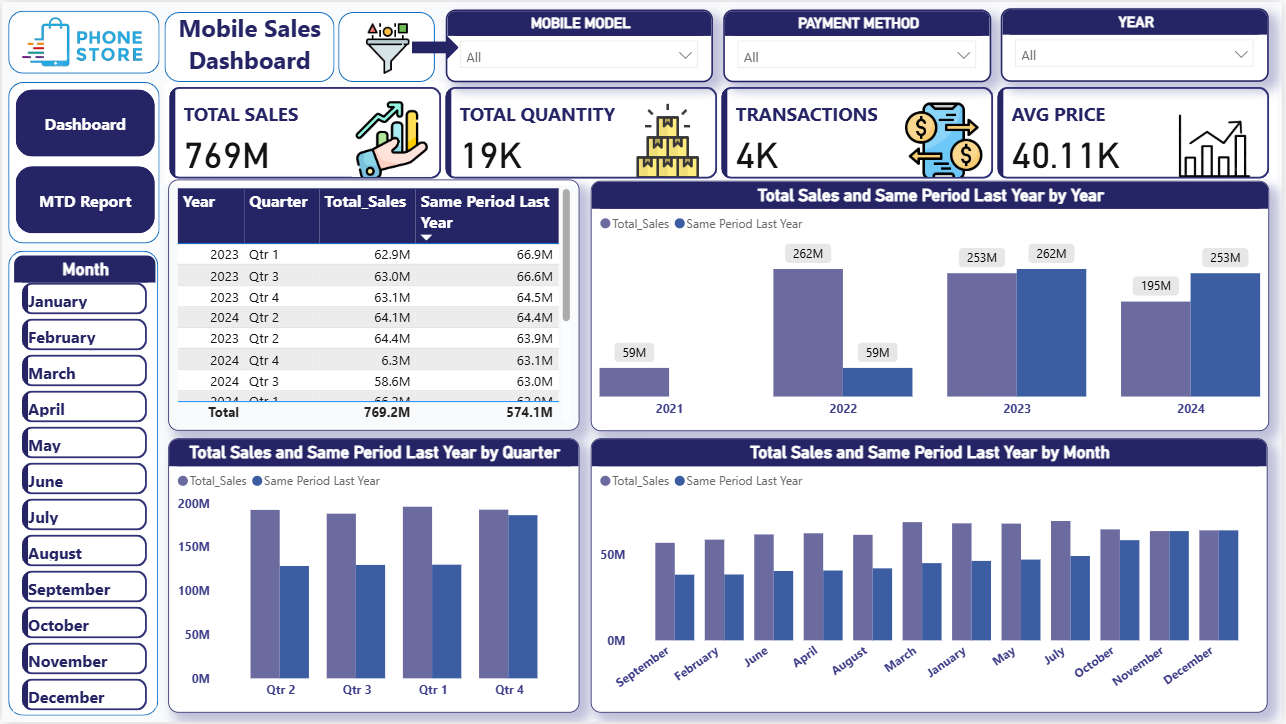

The dashboard page shown, as its layout file describes it:
{"tool":"powerbi","page":{"name":"Same Period Last Year","canvas":[1280,720],"ordinal":3},"visuals":[{"type":"shape","box":[5.7,8.6,151.4,62.9],"z":0},{"type":"shape","box":[5.7,80,151.4,161.4],"z":1000},{"type":"shape","box":[6.7,249.2,150,465],"z":2000},{"type":"image","box":[14.3,0,134.3,80],"z":3000},{"type":"cardVisual","fields":{"Data":["Sales Data.Total_Sales","Sales Data.Total_Quantity","Sales Data.Transactions","Sales Data.Average_Price"]},"box":[162,80,1112,102.7],"z":4000},{"type":"slicer","title":"MOBILE MODEL","fields":{"Values":["Sales Data.Mobile Model"]},"box":[443.8,7.7,266.9,73.1],"z":5000},{"type":"slicer","title":"PAYMENT METHOD","fields":{"Values":["Sales Data.Payment Method"]},"box":[721.5,6.9,267.7,73.1],"z":6000},{"type":"slicer","title":"YEAR","fields":{"Values":["Custom Calendar.Date.Variation.Date Hierarchy.Year"]},"box":[998.5,6.2,267.7,73.8],"z":7000},{"type":"shape","box":[336.7,10,96.7,70],"z":8000},{"type":"image","box":[332.2,14.4,106.7,63.3],"z":9000},{"type":"shape","box":[410,33.3,46.7,23.3],"z":10000},{"type":"shape","box":[162.2,10,170,70],"z":11000},{"type":"textbox","box":[160,5,175,82.5],"z":12000},{"type":"pageNavigator","box":[10,81.1,146.7,160],"z":13000},{"type":"advancedSlicerVisual","fields":{"Values":["Custom Calendar.Date.Variation.Date Hierarchy.Month"]},"box":[10.9,253.1,143.6,466.9],"z":14000},{"type":"tableEx","fields":{"Values":["Custom Calendar.Date.Variation.Date Hierarchy.Year","Custom Calendar.Date.Variation.Date Hierarchy.Quarter","Sales Data.Total_Sales","Sales Data.Same Period Last Year"]},"box":[165.7,177.1,411.4,251.4],"z":15000},{"type":"clusteredColumnChart","title":"Total Sales and Same Period Last Year by Year","fields":{"Category":["Custom Calendar.Date.Variation.Date Hierarchy.Year","Custom Calendar.Date.Variation.Date Hierarchy.Quarter"],"Y":["Sales Data.Total_Sales","Sales Data.Same Period Last Year"]},"box":[588.6,178.6,678.6,250],"z":16000},{"type":"clusteredColumnChart","title":"Total Sales and Same Period Last Year by Quarter","fields":{"Category":["Custom Calendar.Date.Variation.Date Hierarchy.Year","Custom Calendar.Date.Variation.Date Hierarchy.Quarter"],"Y":["Sales Data.Total_Sales","Sales Data.Same Period Last Year"]},"box":[165.7,435.7,411.4,274.3],"z":17000},{"type":"clusteredColumnChart","title":"Total Sales and Same Period Last Year by Month","fields":{"Y":["Sales Data.Total_Sales","Sales Data.Same Period Last Year"],"Category":["Custom Calendar.Date.Variation.Date Hierarchy.Year","Custom Calendar.Date.Variation.Date Hierarchy.Quarter","Custom Calendar.Date.Variation.Date Hierarchy.Month","Custom Calendar.Date.Variation.Date Hierarchy.Day"]},"box":[588.6,435.7,677.1,274.3],"z":18000},{"type":"pageNavigator","box":[13.3,88.1,139.9,146],"z":19000}]}

Visuals, with their boxes in screenshot pixels (x1, y1, x2, y2), scaled from the page's 1280x720 canvas onto the 1286x724 screenshot:
shape: detection(6, 9, 158, 72)
shape: detection(6, 80, 158, 243)
shape: detection(7, 251, 157, 718)
image: detection(14, 0, 149, 80)
cardVisual - Sales Data.Total_Sales x Sales Data.Total_Quantity: detection(163, 80, 1280, 184)
"MOBILE MODEL" slicer: detection(446, 8, 714, 81)
"PAYMENT METHOD" slicer: detection(725, 7, 994, 80)
"YEAR" slicer: detection(1003, 6, 1272, 80)
shape: detection(338, 10, 435, 80)
image: detection(334, 14, 441, 78)
shape: detection(412, 33, 459, 57)
shape: detection(163, 10, 334, 80)
textbox: detection(161, 5, 337, 88)
pageNavigator: detection(10, 82, 157, 242)
advancedSlicerVisual - Custom Calendar.Date.Variation.Date Hierarchy.Month: detection(11, 255, 155, 723)
tableEx - Custom Calendar.Date.Variation.Date Hierarchy.Year x Custom Calendar.Date.Variation.Date Hierarchy.Quarter: detection(166, 178, 580, 431)
"Total Sales and Same Period Last Year by Year" clusteredColumnChart: detection(591, 180, 1273, 431)
"Total Sales and Same Period Last Year by Quarter" clusteredColumnChart: detection(166, 438, 580, 714)
"Total Sales and Same Period Last Year by Month" clusteredColumnChart: detection(591, 438, 1272, 714)
pageNavigator: detection(13, 89, 154, 235)
